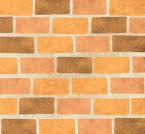brick: (91, 16, 127, 34), (32, 79, 69, 95), (37, 36, 71, 53), (94, 57, 128, 74), (52, 17, 88, 33), (72, 78, 108, 94), (19, 98, 55, 114), (21, 57, 54, 74), (110, 78, 145, 94), (94, 98, 129, 114), (15, 17, 49, 33), (1, 119, 37, 134), (39, 119, 74, 134), (78, 119, 113, 134), (76, 37, 110, 52), (57, 58, 91, 73), (109, 1, 145, 15), (1, 37, 34, 52), (57, 98, 90, 113), (1, 77, 30, 94), (34, 1, 71, 14), (113, 36, 145, 51), (73, 1, 106, 15), (1, 1, 33, 15), (115, 119, 144, 134), (1, 57, 18, 74), (1, 97, 17, 115), (129, 17, 145, 32), (132, 98, 145, 114), (1, 16, 13, 32), (133, 57, 145, 73)
